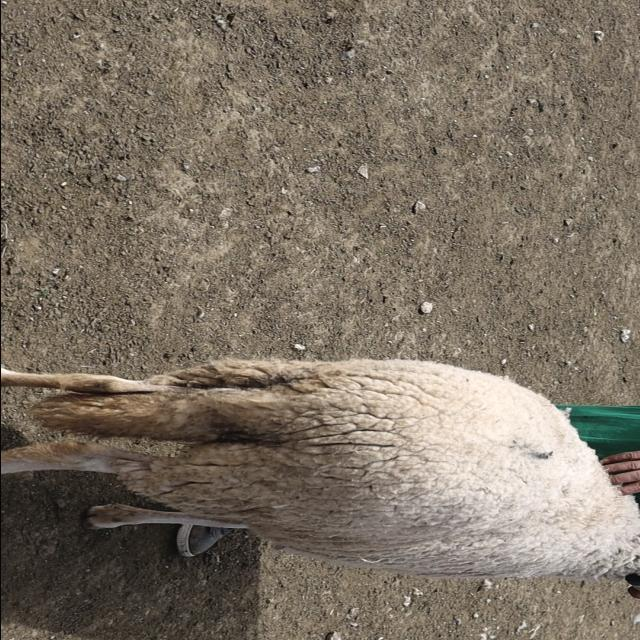Score_4: (1, 358, 640, 582)
